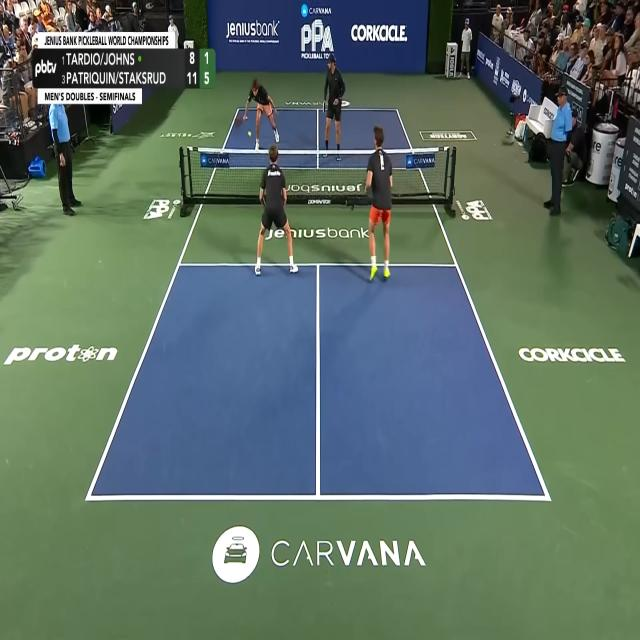ball: (248, 130, 252, 138)
